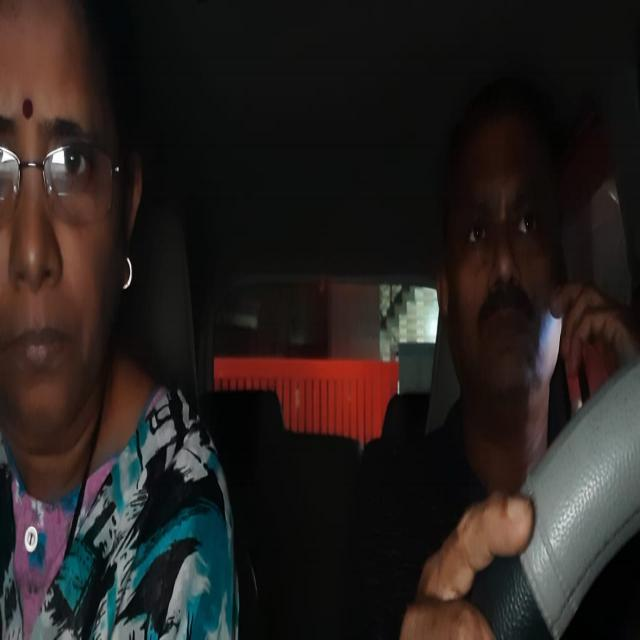mobile: (555, 265, 589, 416)
person: (0, 12, 146, 430), (452, 117, 560, 396)
